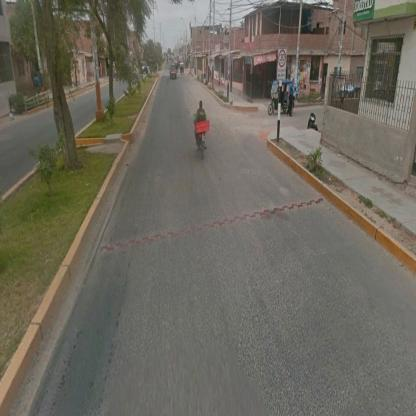Moto: (196, 101, 210, 162)
Peaton: (289, 76, 295, 117), (35, 73, 40, 94)
Pista: (31, 67, 397, 415), (1, 81, 139, 194)
Vehiculo: (269, 81, 297, 119), (170, 64, 178, 81)
